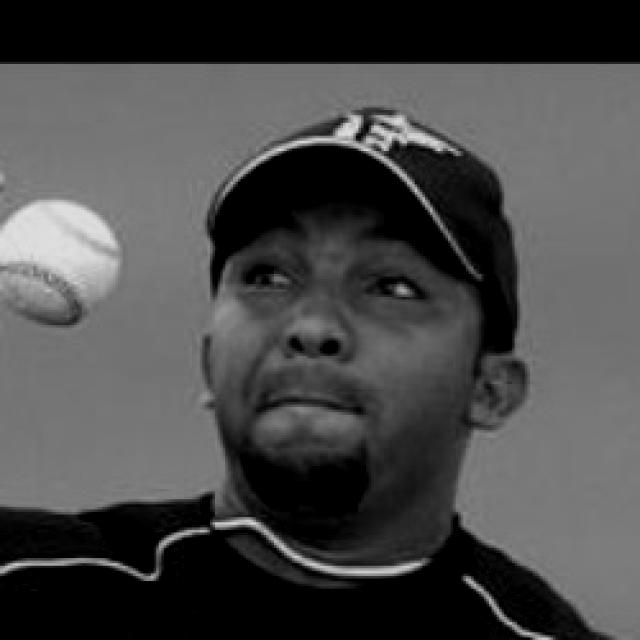real: (208, 176, 514, 520), (235, 242, 433, 316)
